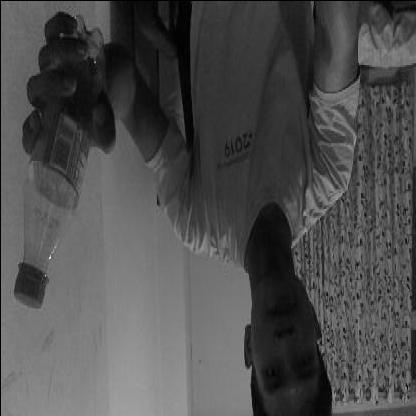plastic_bottles: (14, 14, 108, 302)
